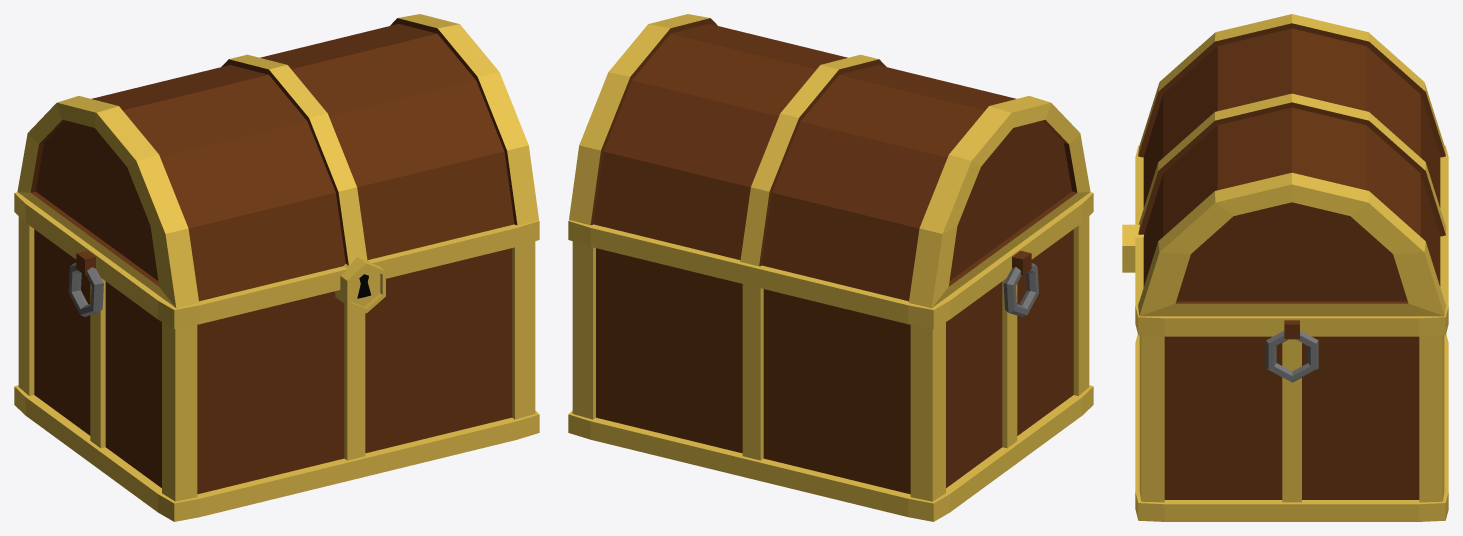
File: Chest.fbx
3 views of the same model, side by side, from view 1: azimuth 30°, elevation 25°; view 2: azimuth 150°, elevation 25°; view 3: azimuth 270°, elevation 25° (orthographic). The views are drawn at different scales.
Parts seen in each view (by area): view 1: Chest; view 2: Chest; view 3: Chest.
Part boxes in pixels (bbox=[...]): Chest: bbox=[14, 14, 539, 521]; Chest: bbox=[568, 14, 1093, 521]; Chest: bbox=[1122, 14, 1448, 521].
Bounding box in the file's own units: 447 × 381 × 333.
